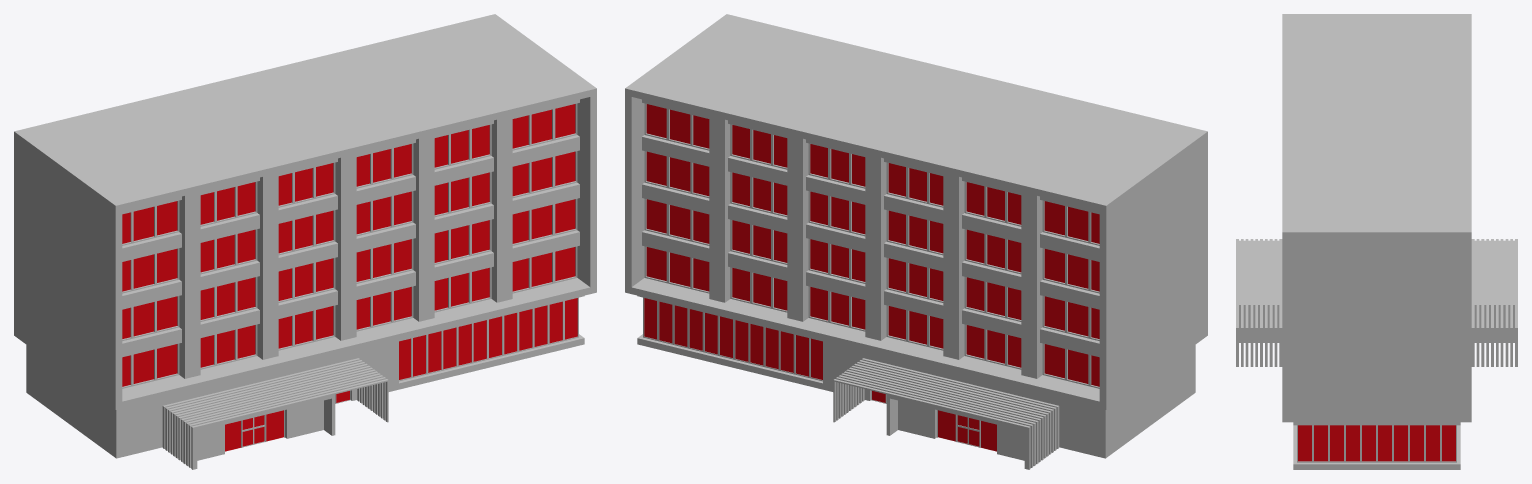
Rendered from SM_House_08.gltf.
3 renders of one model, left to right at view 1: azimuth 30°, elevation 25°; view 2: azimuth 150°, elevation 25°; view 3: azimuth 270°, elevation 25°, orthographic. The views are drawn at different scales.
Parts seen in each view (by area): view 1: House_08; view 2: House_08; view 3: House_08.
Part boxes in pixels (x1=…): House_08: x1=14, y1=14, x2=596, y2=469; House_08: x1=625, y1=14, x2=1207, y2=469; House_08: x1=1236, y1=14, x2=1517, y2=469.
Size of the model in its own units: 37 by 19.01 by 20.18.
